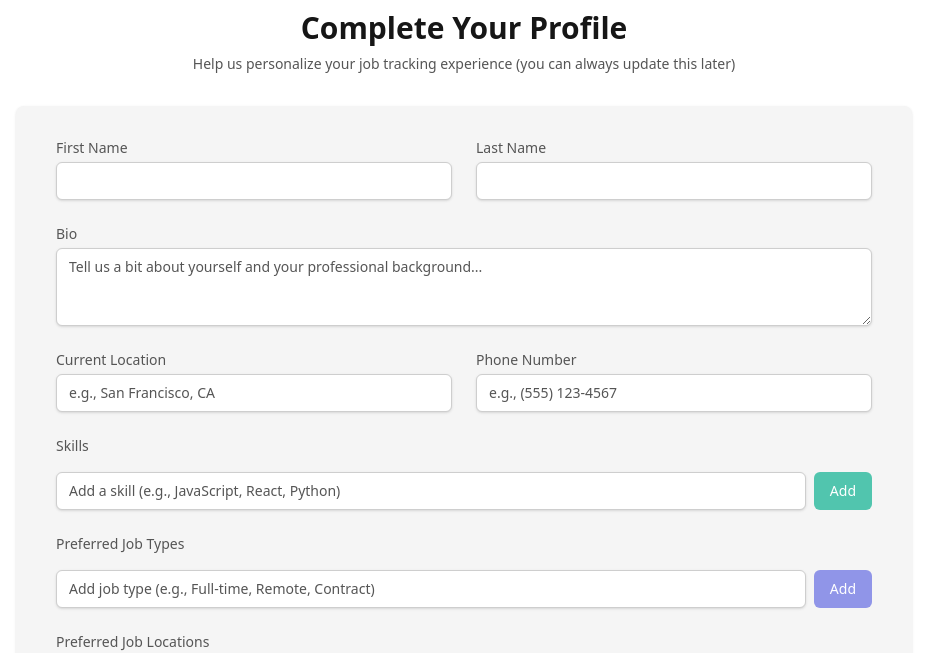
Test: ProfileSetup Component › should add and remove job types
This screenshot has width=929, height=653.
Note: Add a job type
Type "Full-time" into the field with placeholder "Add job type (e.g., Full-time, Remote, Contract)". click: (431, 589)
box: [56,570,806,608]
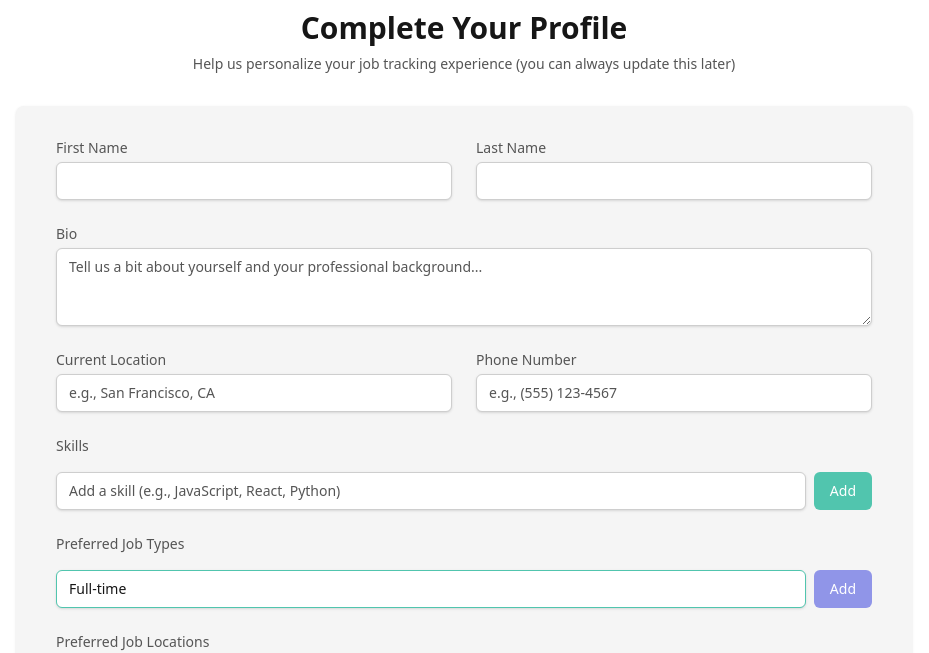
Click the 2nd button "Add". click: (843, 589)
box: [814,570,872,608]
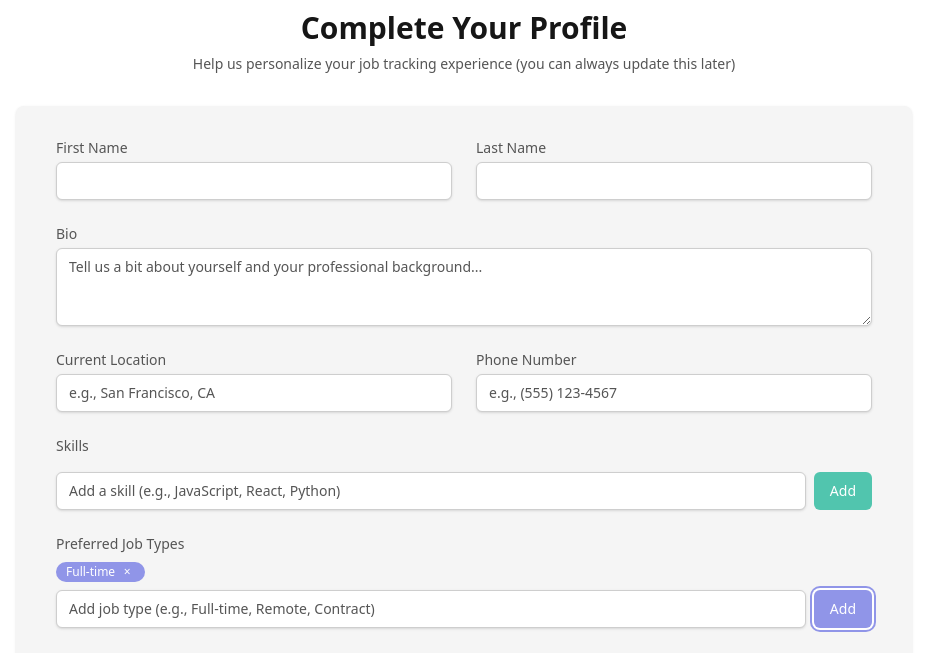
Check: the text "Full-time" is shown, box [66,563,115,580]
Check: the field with placeholder "Add job type (e.g., Full-time, Remote, Contract)" is empty, box [56,590,806,628]
